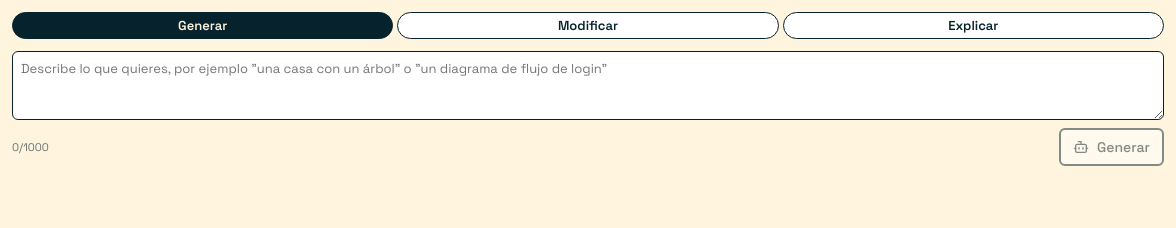
Test case: AssistantPanel › can be cancelled while it runs, aborting the request
Replace the text in the text box named "Instrucción para el asistente" with "una casa" at (588, 86), box 12,51 -> 1164,120
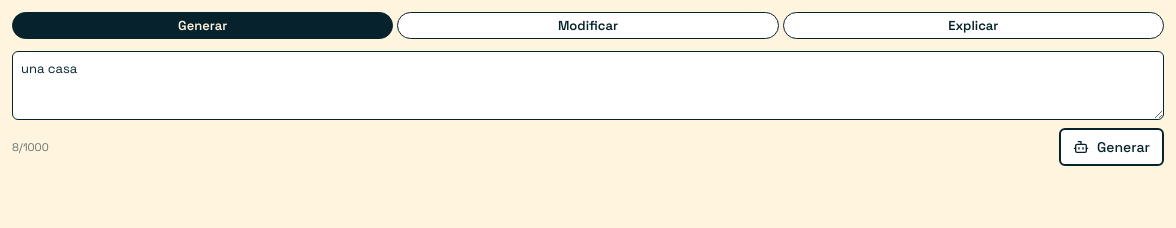
Click the button "Generar" at (1112, 147), box 1059,128 -> 1164,166
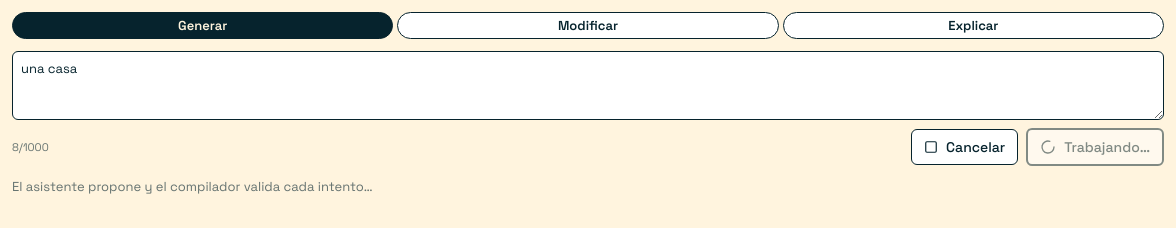
Click the button "Cancelar" at (965, 147), box 911,129 -> 1018,165
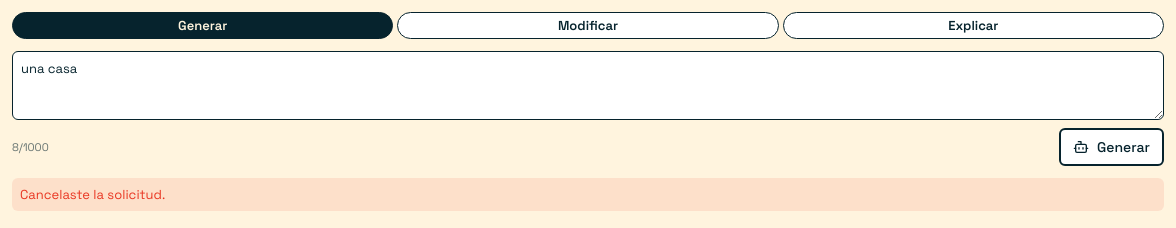
Expected: the text "Cancelaste la solicitud." is shown, 12,178 -> 1164,211
